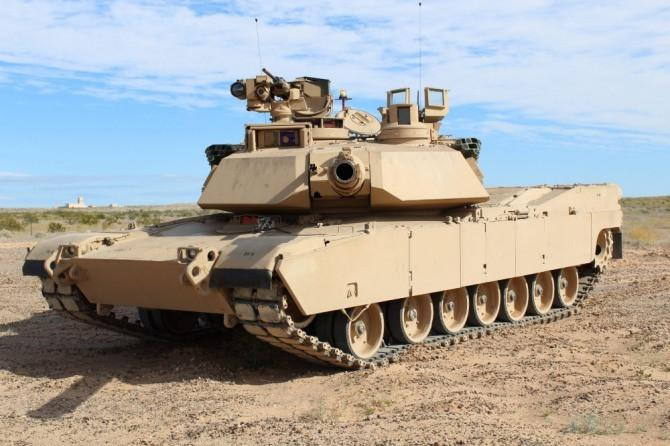tank: (21, 67, 623, 371)
